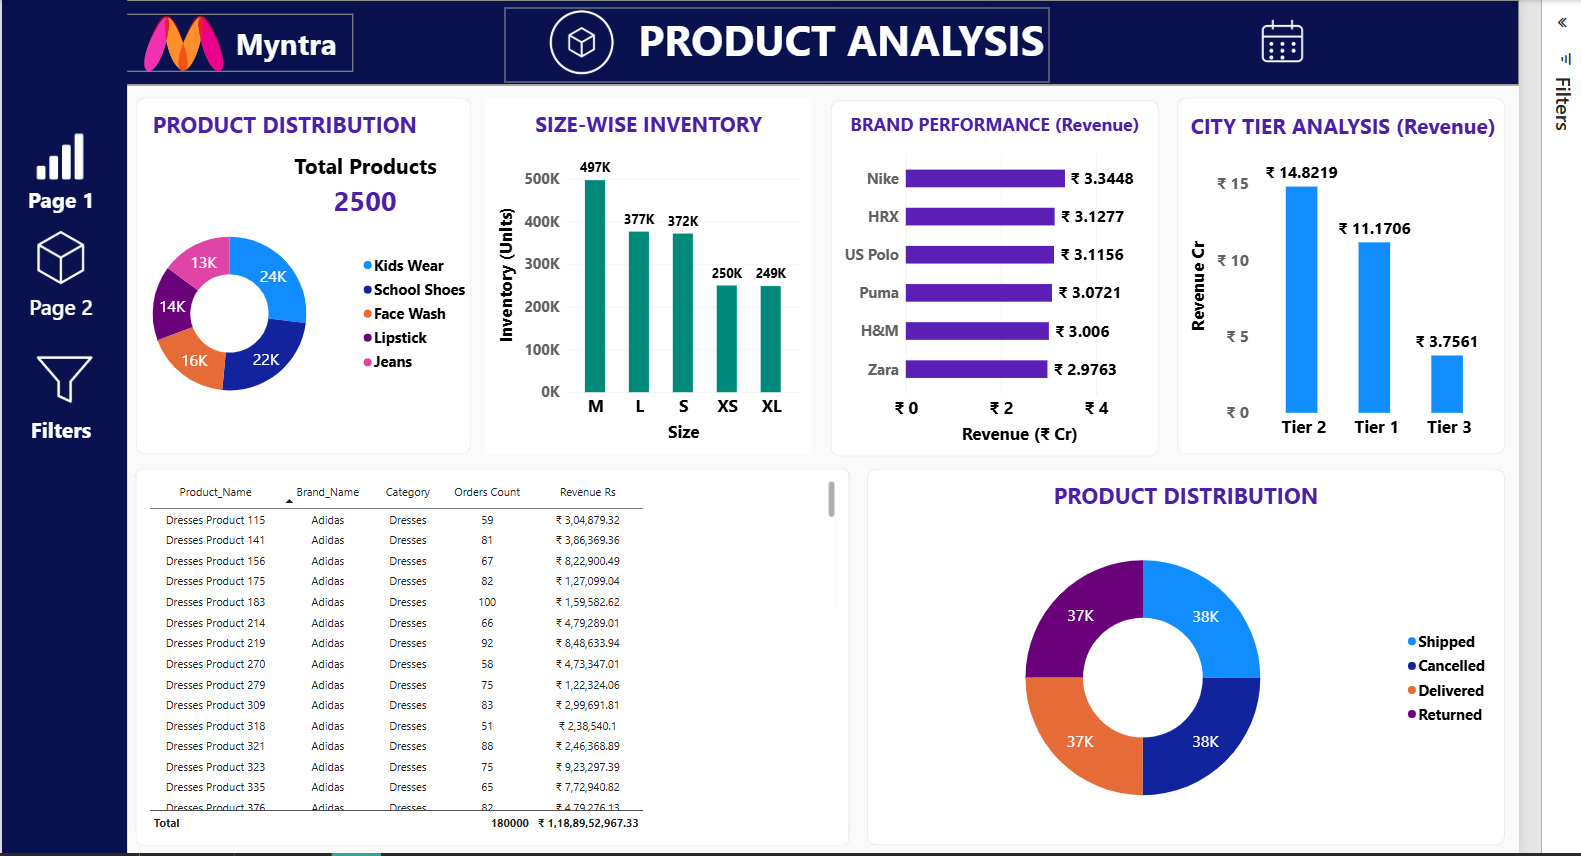

Layout of this report page (visuals, bound fields, positions):
{"tool":"powerbi","page":{"name":"Page 2","canvas":[1920,1080],"ordinal":1},"visuals":[{"type":"textbox","box":[805.2,13.6,522.2,91.7],"z":0,"group":"g2"},{"type":"image","box":[1610.8,30.6,169,68.3],"z":0},{"type":"shape","box":[0,0,158.3,1080],"z":1000,"group":"g5"},{"type":"image","box":[636.6,10,195.3,88.1],"z":1000,"group":"g2"},{"type":"shape","box":[1094.8,593.3,807.2,476.4],"z":1000},{"type":"image","box":[141.1,16.7,178.3,75],"z":2000,"group":"g4"},{"type":"shape","box":[169,124,424.3,451.2],"z":2000,"group":"g6"},{"type":"group","id":"g1","title":"Group 4","box":[0,161.7,158.3,413.9],"z":2000,"group":"g5"},{"type":"shape","box":[166.9,593.3,906.2,464.6],"z":2000},{"type":"shape","box":[611.2,124,415.3,451.2],"z":3000},{"type":"image","box":[1,285.3,145.6,82.7],"z":3000,"group":"g1"},{"type":"shape","box":[8.3,0,1911.7,108.3],"z":4000,"group":"g3"},{"type":"shape","box":[1048.1,125.8,415.3,451.2],"z":4000},{"type":"image","box":[16.2,161.7,115.3,79.7],"z":4000,"group":"g1"},{"type":"group","id":"g2","title":"Group 1","box":[636.6,10,690,95],"z":5000,"group":"g3"},{"type":"donutChart","title":"PRODUCT DISTRIBUTION","fields":{"Category":["myntra_orders_master.Category"],"Y":["MeasuresTable.Total Orders"]},"box":[104.3,124,507,494.4],"z":5000,"group":"g6"},{"type":"shape","box":[1486.7,124,415.3,451.2],"z":5000},{"type":"image","box":[0,433.8,158.3,88.5],"z":5000,"group":"g7"},{"type":"donutChart","title":"PRODUCT DISTRIBUTION","fields":{"Category":["myntra_orders_master.Order_Status"],"Y":["MeasuresTable.Total Orders"]},"box":[1094.8,593.3,807.2,476.4],"z":5000},{"type":"group","id":"g3","title":"Group 5","box":[8.3,0,1911.7,108.3],"z":6000},{"type":"group","id":"g4","title":"Group 3","box":[141.1,16.7,303.1,75],"z":6000,"group":"g3"},{"type":"group","id":"g5","title":"Group 6","box":[0,0,158.2,1080.4],"z":6500,"group":"g8"},{"type":"image","box":[1536.6,18.3,169,68.3],"z":7000,"group":"g3"},{"type":"group","id":"g6","title":"Group 7","box":[104.3,124,507,494.4],"z":7000},{"type":"textbox","box":[36.7,525.8,95,49.8],"z":7000,"group":"g7"},{"type":"textbox","box":[295.9,28.9,148.3,60],"z":8000,"group":"g4"},{"type":"clusteredColumnChart","title":"SIZE-WISE INVENTORY","fields":{"Category":["Inventory_Unpivot.Size"],"Y":["Sum(Inventory_Unpivot.Inventory)"]},"box":[610.3,123.4,415.5,452.3],"z":8000},{"type":"group","id":"g7","title":"Group 2","box":[0,433.8,158.3,141.8],"z":8005,"group":"g1"},{"type":"clusteredBarChart","title":"BRAND PERFORMANCE (Revenue)","fields":{"Category":["Brand_Group.Brand_Label"],"Y":["MeasuresTable.Revenue Cr"]},"box":[1048.1,125.8,415.3,451.2],"z":9000},{"type":"cardVisual","fields":{"Data":["MeasuresTable.Total Products"]},"box":[343.4,183.3,233.7,102.5],"z":9000,"group":"g6"},{"type":"group","id":"g8","title":"Group 8","box":[0,0,158.2,1080.4],"z":10000},{"type":"clusteredColumnChart","title":"CITY TIER ANALYSIS (Revenue)","fields":{"Category":["myntra_orders_master.City_Tier"],"Y":["MeasuresTable.Revenue Cr"]},"box":[1486.7,125.8,420.7,449.4],"z":11000},{"type":"pageNavigator","box":[18,190.6,115.1,262.5],"z":11001,"group":"g8"},{"type":"tableEx","fields":{"Values":["myntra_orders_master.Product_Name","myntra_orders_master.Brand_Name","myntra_orders_master.Category","MeasuresTable.Orders Count","MeasuresTable.Revenue Rs"]},"box":[170,593.3,902,476.4],"z":11001}]}

Visuals, with their boxes on the page's 1920x1080 design canvas (x1, y1, x2, y2). These are canvas units, not pixel positions in the 1581x856 screenshot, which may show the page scaled, cropped or inside an application window:
textbox: l=805, t=14, r=1327, b=105
image: l=1611, t=31, r=1780, b=99
shape: l=0, t=0, r=158, b=1080
image: l=637, t=10, r=832, b=98
shape: l=1095, t=593, r=1902, b=1070
image: l=141, t=17, r=319, b=92
shape: l=169, t=124, r=593, b=575
"Group 4" group: l=0, t=162, r=158, b=576
shape: l=167, t=593, r=1073, b=1058
shape: l=611, t=124, r=1026, b=575
image: l=1, t=285, r=147, b=368
shape: l=8, t=0, r=1920, b=108
shape: l=1048, t=126, r=1463, b=577
image: l=16, t=162, r=132, b=241
"Group 1" group: l=637, t=10, r=1327, b=105
"PRODUCT DISTRIBUTION" donutChart: l=104, t=124, r=611, b=618
shape: l=1487, t=124, r=1902, b=575
image: l=0, t=434, r=158, b=522
"PRODUCT DISTRIBUTION" donutChart: l=1095, t=593, r=1902, b=1070
"Group 5" group: l=8, t=0, r=1920, b=108
"Group 3" group: l=141, t=17, r=444, b=92
"Group 6" group: l=0, t=0, r=158, b=1080
image: l=1537, t=18, r=1706, b=87
"Group 7" group: l=104, t=124, r=611, b=618
textbox: l=37, t=526, r=132, b=576
textbox: l=296, t=29, r=444, b=89
"SIZE-WISE INVENTORY" clusteredColumnChart: l=610, t=123, r=1026, b=576
"Group 2" group: l=0, t=434, r=158, b=576
"BRAND PERFORMANCE (Revenue)" clusteredBarChart: l=1048, t=126, r=1463, b=577
cardVisual - MeasuresTable.Total Products: l=343, t=183, r=577, b=286
"Group 8" group: l=0, t=0, r=158, b=1080
"CITY TIER ANALYSIS (Revenue)" clusteredColumnChart: l=1487, t=126, r=1907, b=575
pageNavigator: l=18, t=191, r=133, b=453
tableEx - myntra_orders_master.Product_Name x myntra_orders_master.Brand_Name: l=170, t=593, r=1072, b=1070
